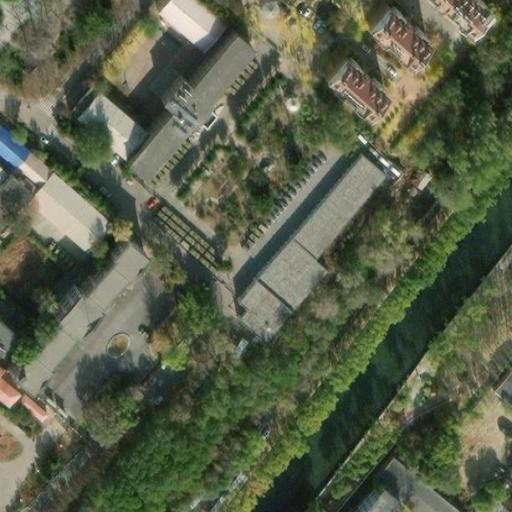building: (14, 248, 146, 394), (122, 37, 251, 180), (283, 145, 379, 249), (425, 386, 503, 477), (23, 167, 107, 248), (69, 89, 146, 163), (246, 231, 318, 304), (365, 452, 452, 512), (362, 11, 426, 73), (321, 61, 385, 123), (226, 274, 280, 337), (153, 0, 219, 50), (464, 448, 512, 512), (417, 0, 486, 41), (334, 473, 386, 512), (8, 379, 52, 423), (480, 357, 512, 409), (450, 468, 488, 510)
